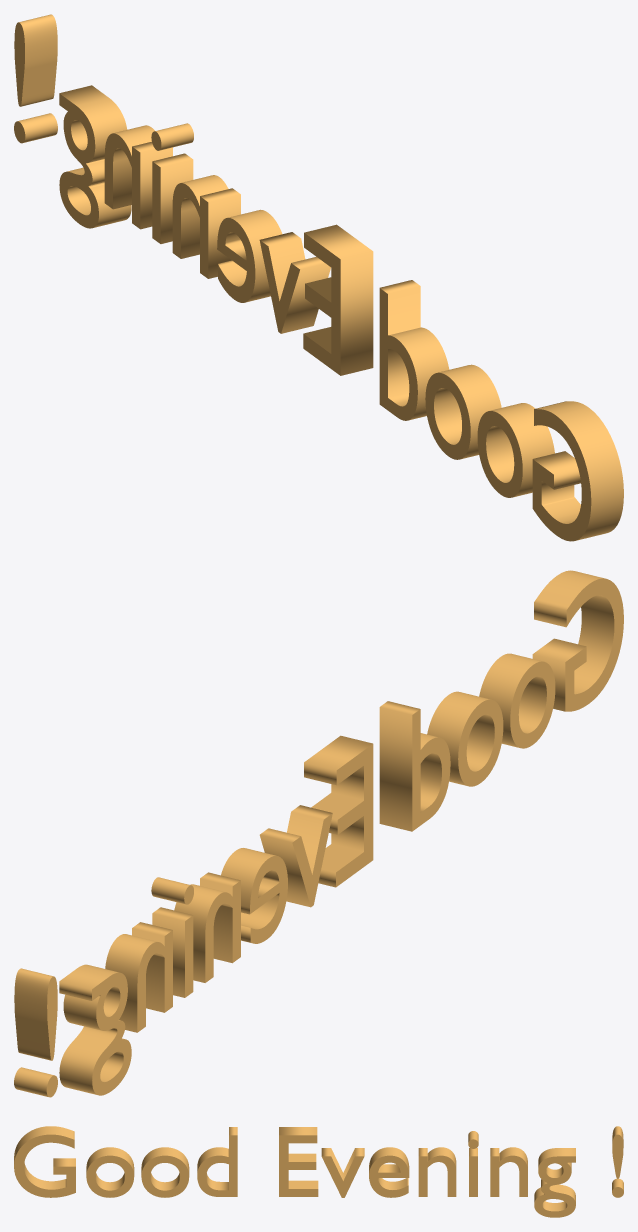
File: goodevening.glb
3 views of the same model, one above another, from view 1: azimuth 30°, elevation 25°; view 2: azimuth 150°, elevation 25°; view 3: azimuth 270°, elevation 25° (orthographic). The views are drawn at different scales.
Visible parts, largest first — view 1: 文本; view 2: 文本; view 3: 文本.
Part boxes in pixels (x1,y1,x2,y2): 文本: (14, 14, 623, 541); 文本: (14, 570, 623, 1097); 文本: (14, 1126, 623, 1217).
Size of the model in its own units: 0.2 by 0.921 by 6.12.
